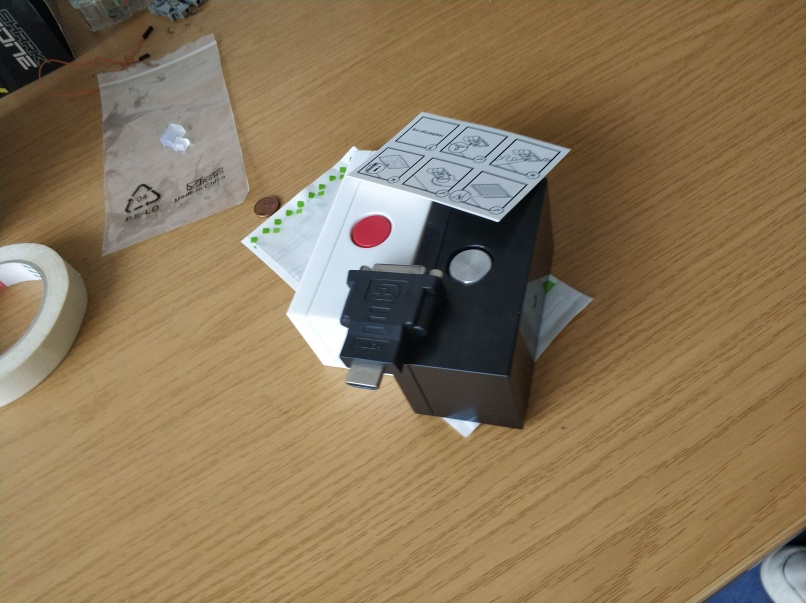black+black+silver: (391, 173, 557, 431)
white+white+red: (286, 143, 435, 373)
